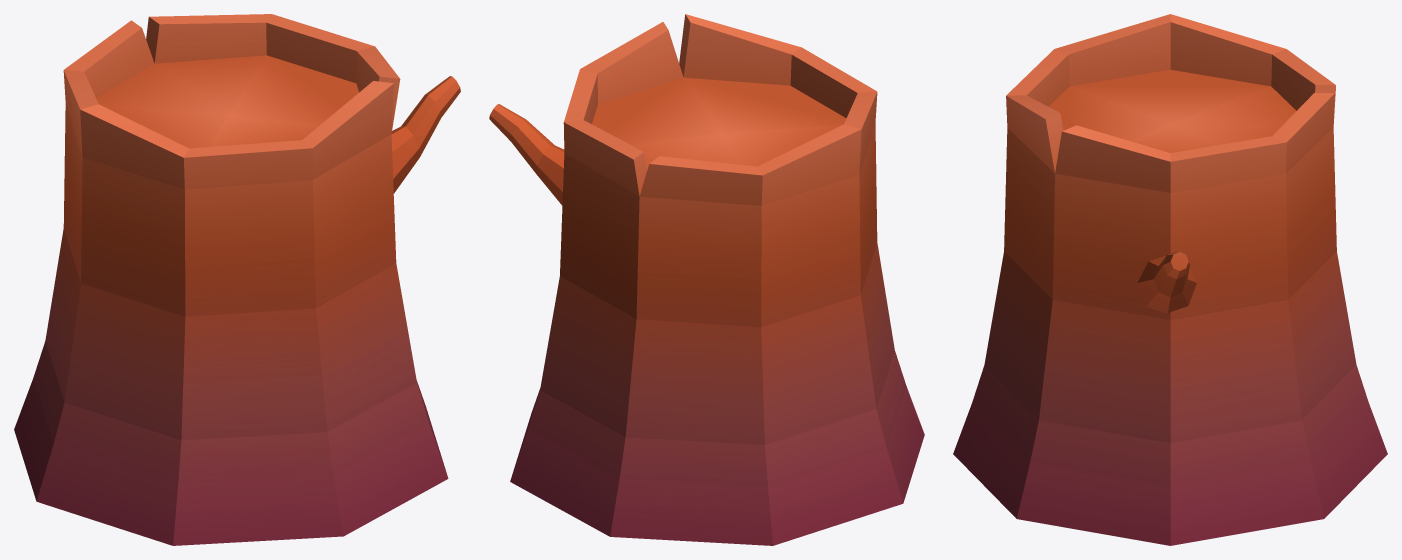
File: Tree_Stump.fbx
The picture shows the model from 3 angles, left to right: view 1: azimuth 30°, elevation 25°; view 2: azimuth 150°, elevation 25°; view 3: azimuth 270°, elevation 25°; orthographic projection. The views are drawn at different scales.
Parts seen in each view (by area): view 1: Tree Stump; view 2: Tree Stump; view 3: Tree Stump.
Boxes of the visible parts, <box> form: Tree Stump: <box>14,14,460,545</box>; Tree Stump: <box>489,14,924,545</box>; Tree Stump: <box>953,14,1387,545</box>.
Bounding box in the file's own units: 153 × 135 × 139.
